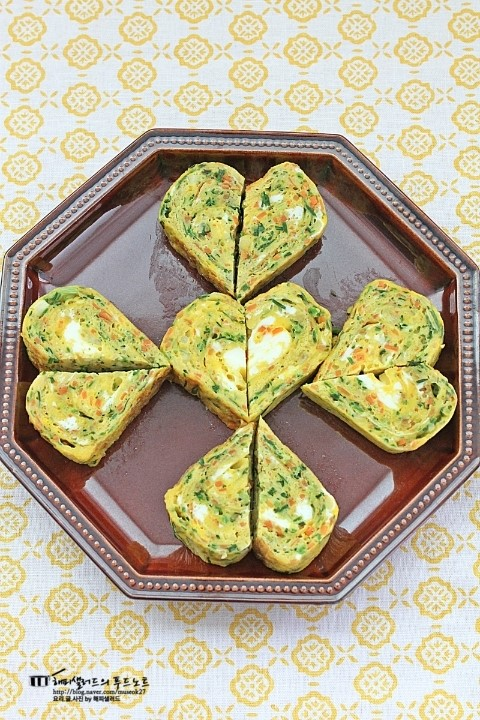gyelanmal-i: (26, 150, 465, 605)
